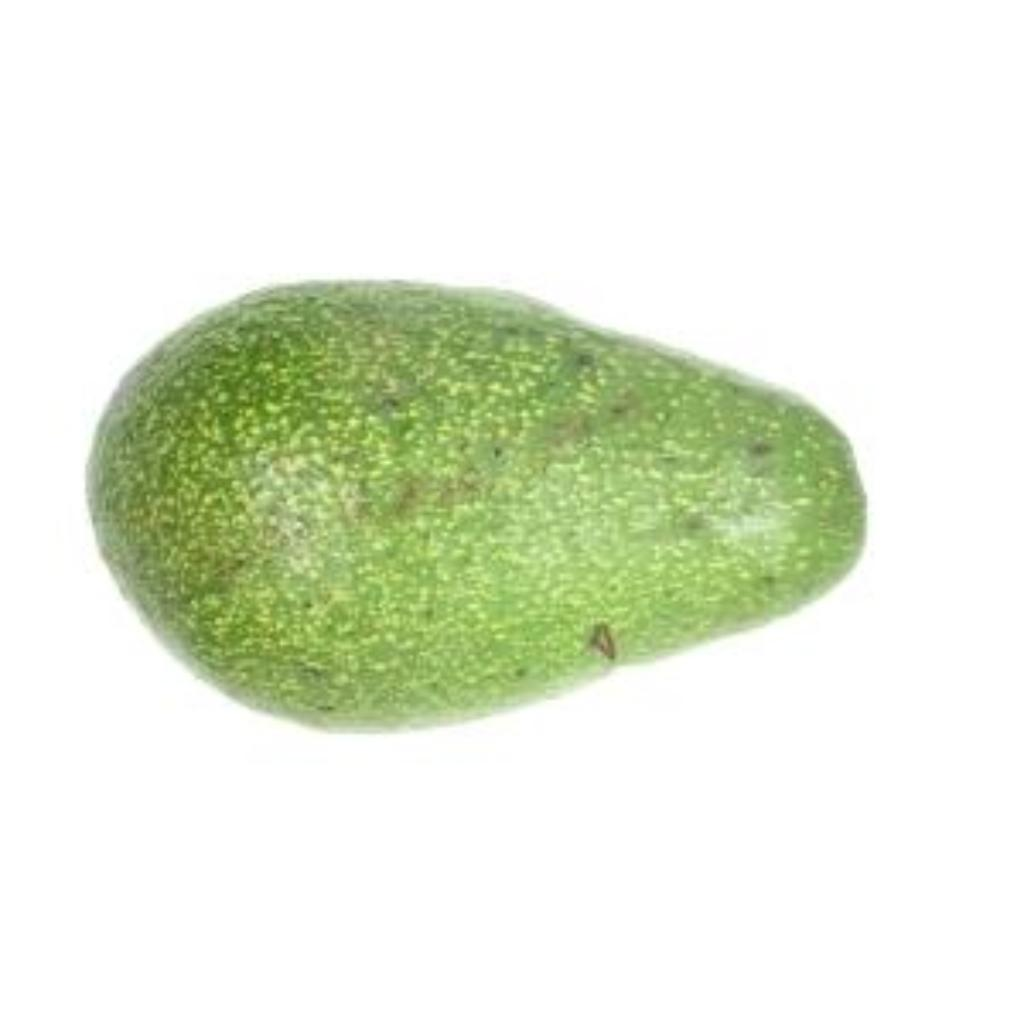cercospora_spot: (56, 266, 880, 730)
